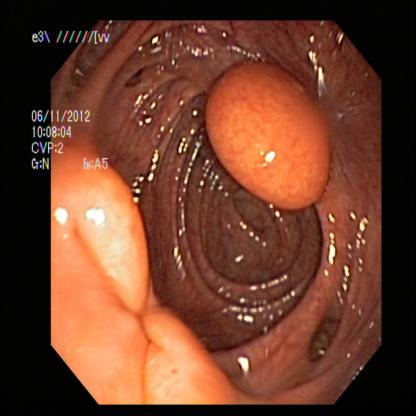Labels: (32, 101, 116, 182), (32, 29, 115, 60)
Polyps: (202, 63, 334, 213), (55, 149, 152, 319), (143, 303, 234, 400)
